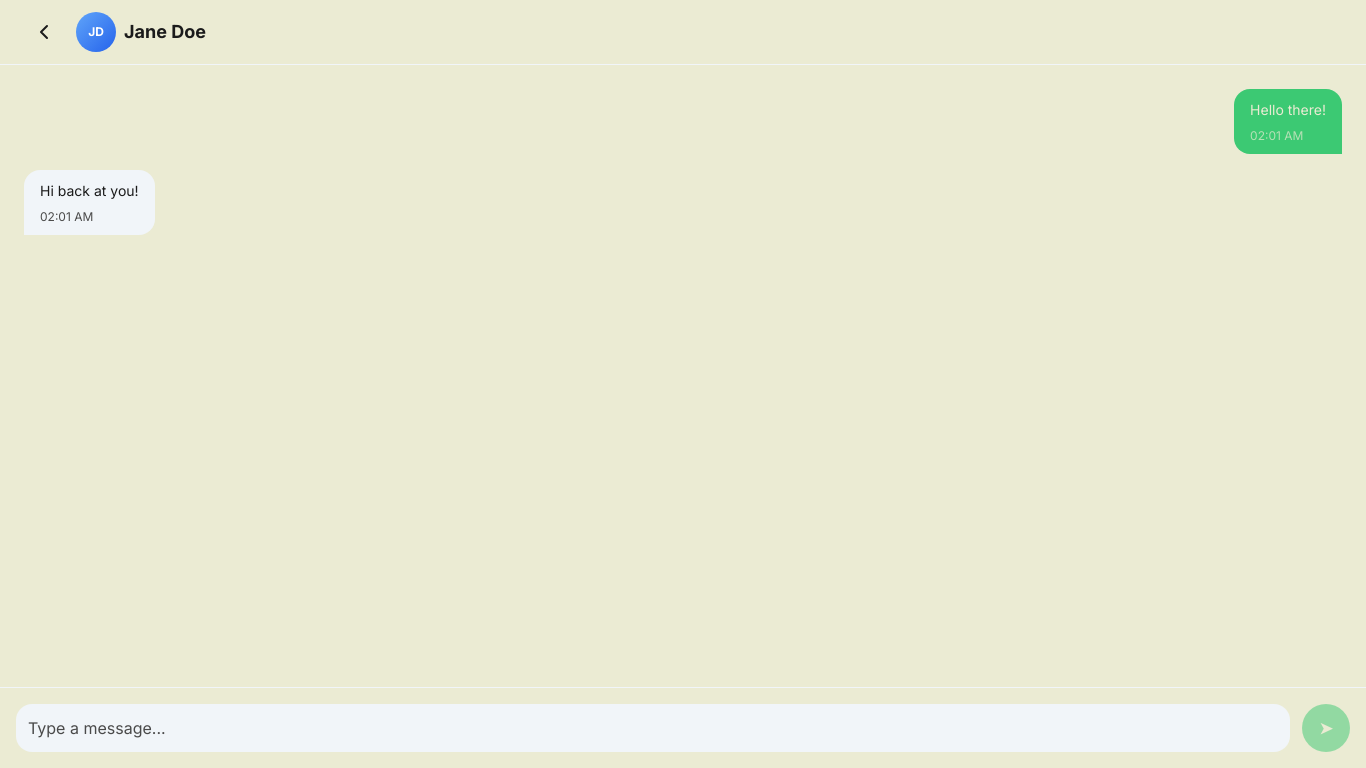
Test case: MessagesPage › message input and send › disables textarea while sending
Type "Sending..." into the text box with placeholder "Type a message..." at (653, 728), box [16, 704, 1290, 752]
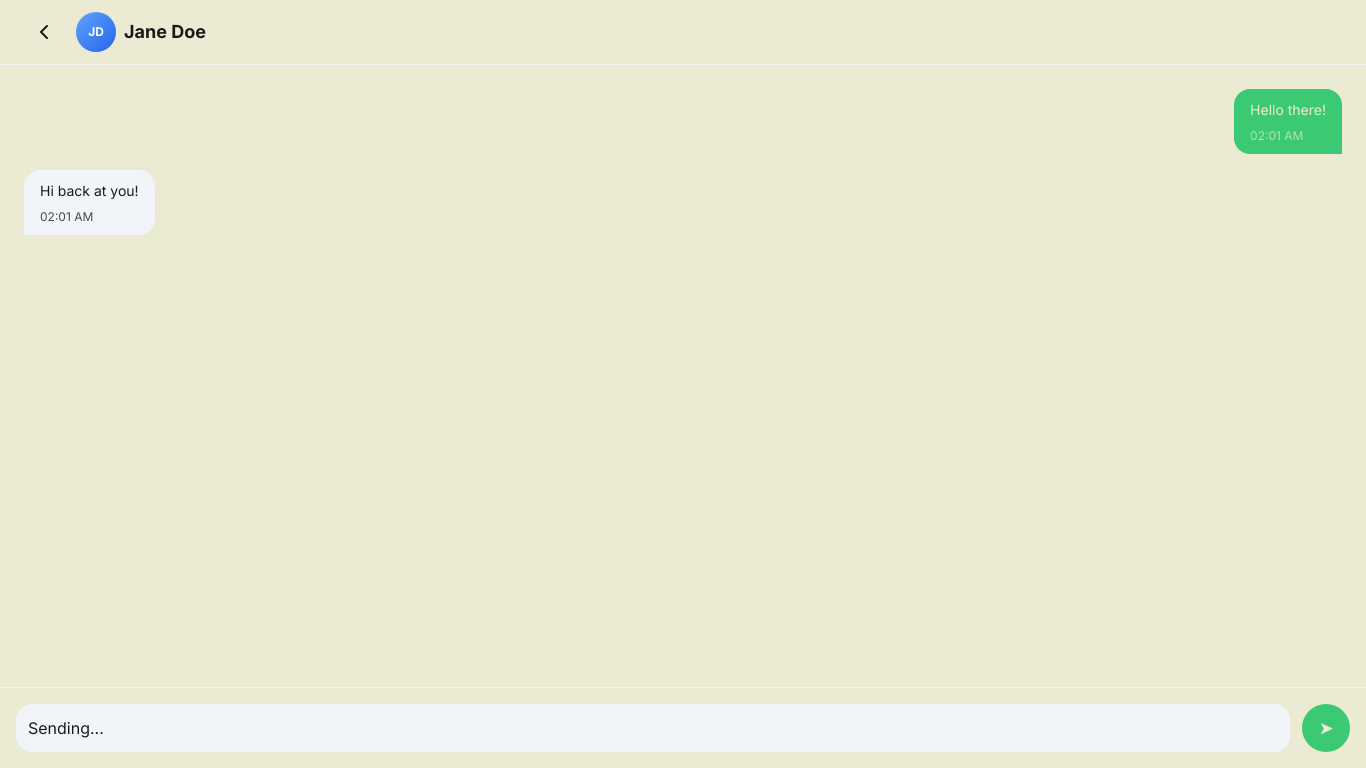
Click the button titled "Send message" at (1326, 728), box [1302, 704, 1350, 752]
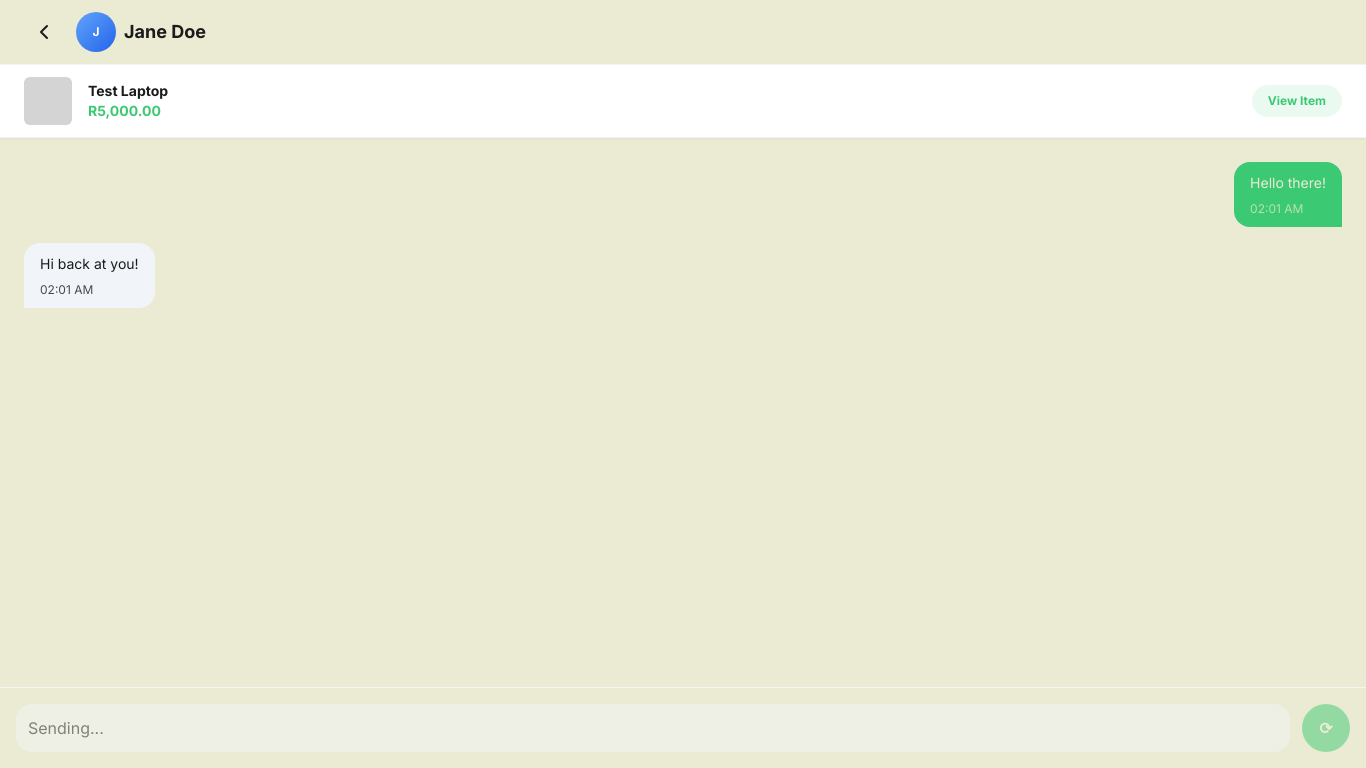
Check: the text box with placeholder "Type a message..." is disabled, box [16, 704, 1290, 752]
